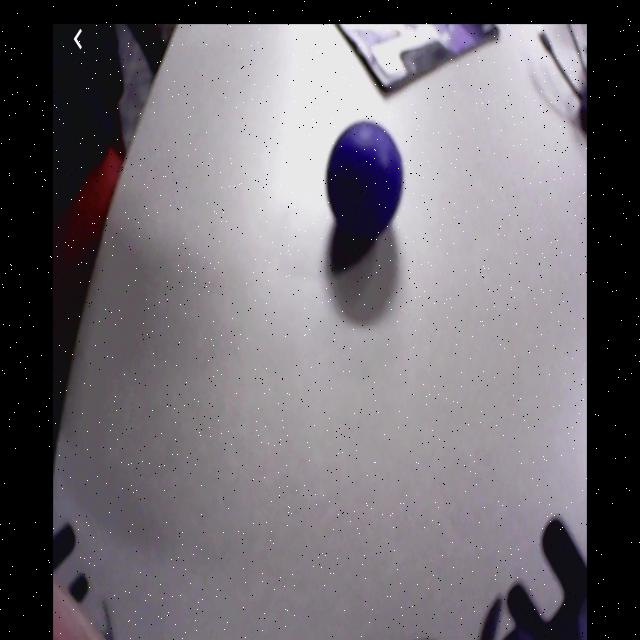ball: (327, 119, 404, 234)
